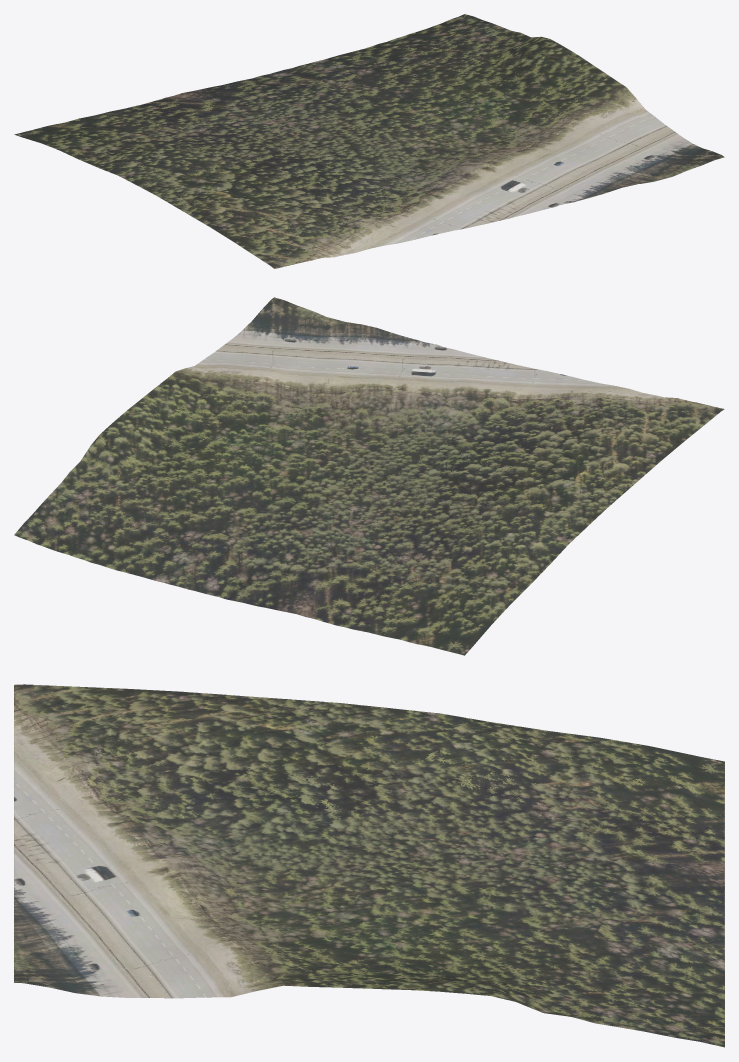
The model's file is CM_Terrain_24490458_6817746.fbx.
3 views of the same model, one above another, from view 1: azimuth 30°, elevation 25°; view 2: azimuth 150°, elevation 25°; view 3: azimuth 270°, elevation 25° (orthographic). The views are drawn at different scales.
Parts seen in each view (by area): view 1: CM_Terrain_24490458_6817746_LOD0; view 2: CM_Terrain_24490458_6817746_LOD0; view 3: CM_Terrain_24490458_6817746_LOD0.
Part boxes in pixels (bbox=[...]): CM_Terrain_24490458_6817746_LOD0: bbox=[14, 14, 724, 268]; CM_Terrain_24490458_6817746_LOD0: bbox=[14, 297, 724, 655]; CM_Terrain_24490458_6817746_LOD0: bbox=[14, 684, 724, 1047].
Size of what is drawn, in the model's own units: 205 by 26 by 205.
